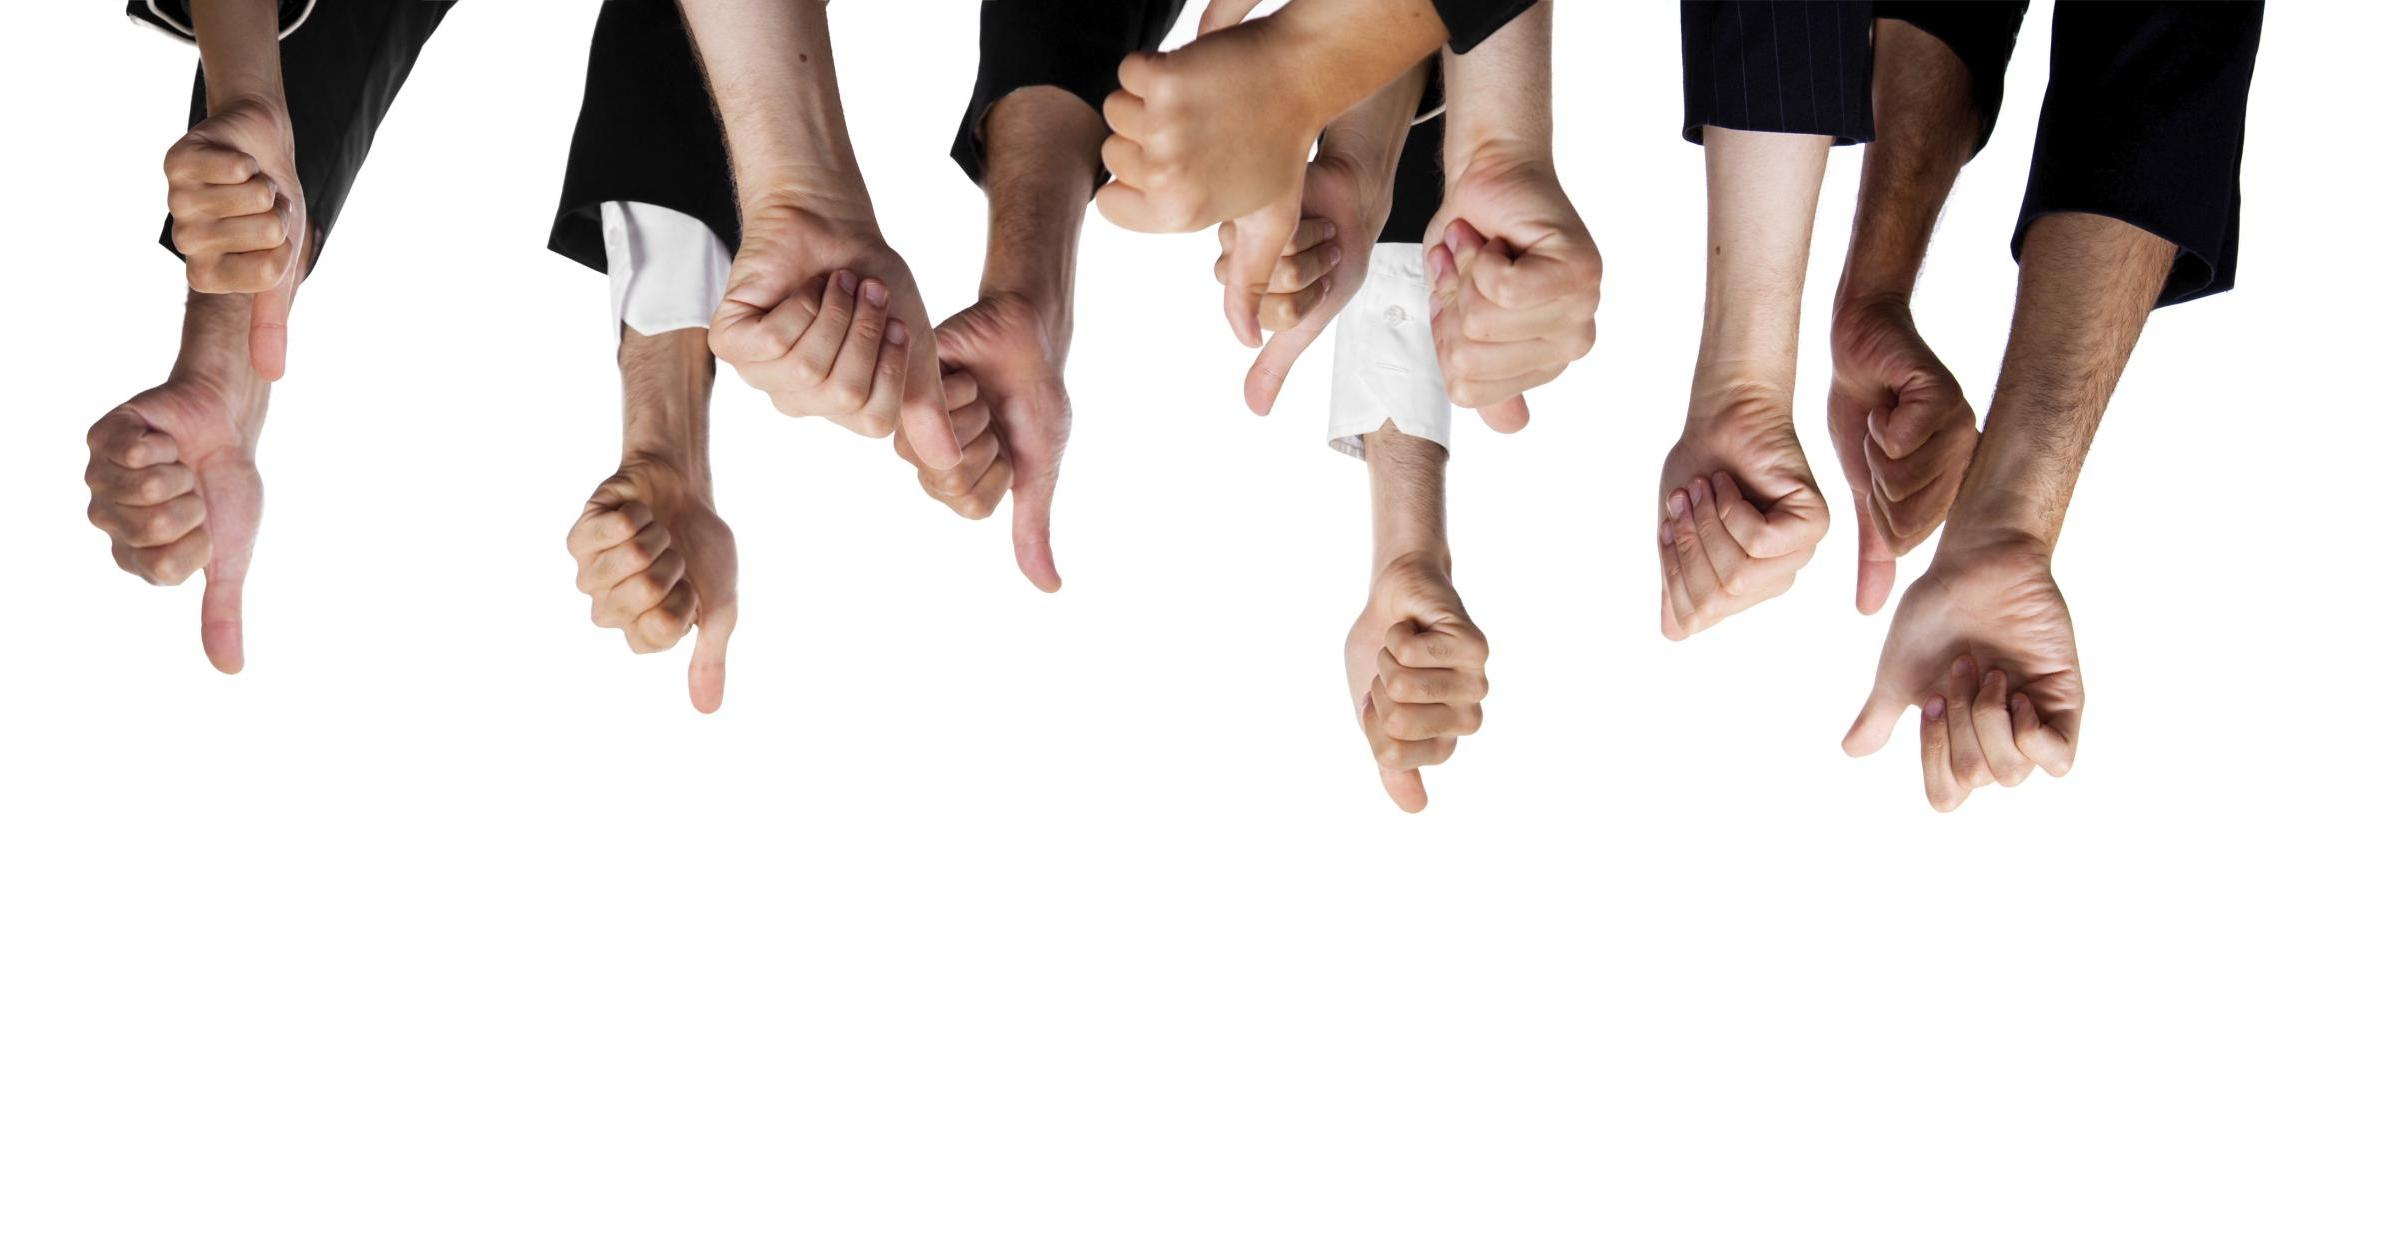thumbsdown: (1095, 48, 1277, 349), (708, 263, 965, 470), (86, 417, 248, 679), (890, 365, 1065, 598), (565, 495, 731, 716), (163, 140, 298, 386), (1855, 373, 1964, 617), (1360, 616, 1491, 816)
